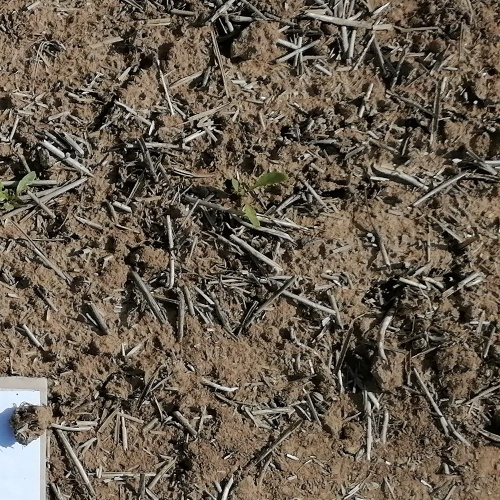beet: (226, 169, 288, 226), (0, 172, 36, 214)
